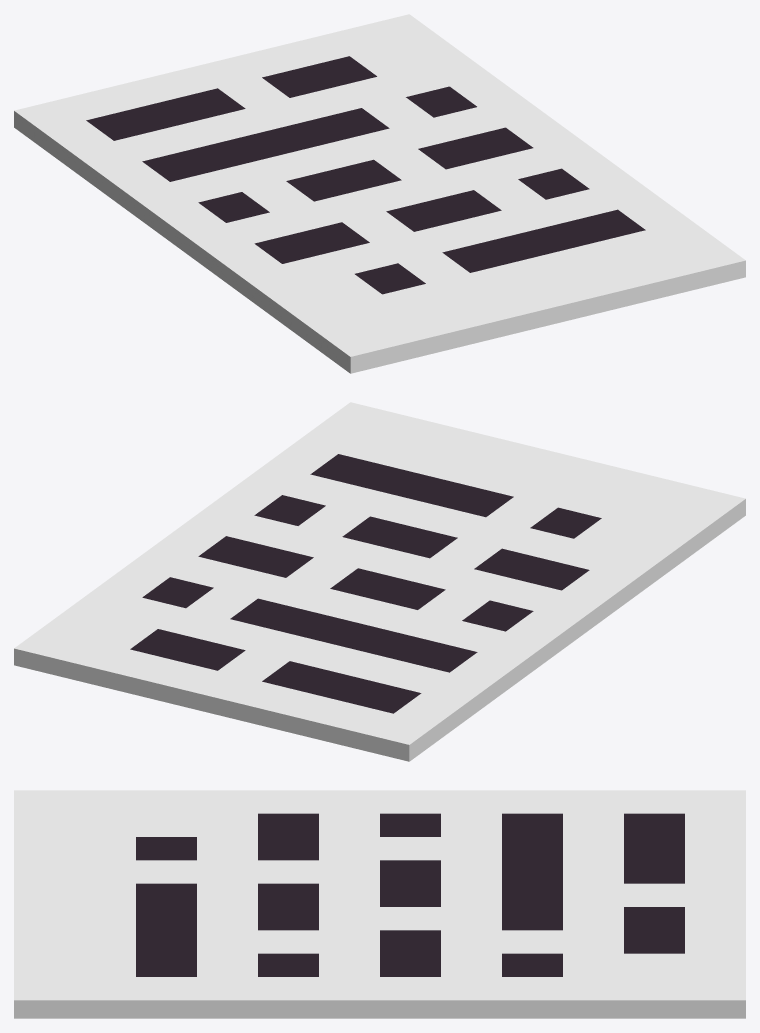
The model's file is DocumentProjectile.fbx.
3 views of the same model, one above another, from view 1: azimuth 30°, elevation 25°; view 2: azimuth 150°, elevation 25°; view 3: azimuth 270°, elevation 25° (orthographic). The views are drawn at different scales.
Parts seen in each view (by area): view 1: Document; view 2: Document; view 3: Document.
Boxes of the visible parts, x1,y1,x2,y2 form: Document: (14, 14, 745, 373); Document: (14, 402, 745, 761); Document: (14, 790, 745, 1018).
Size of the model in its own units: 83.11 by 122 by 3.38.
